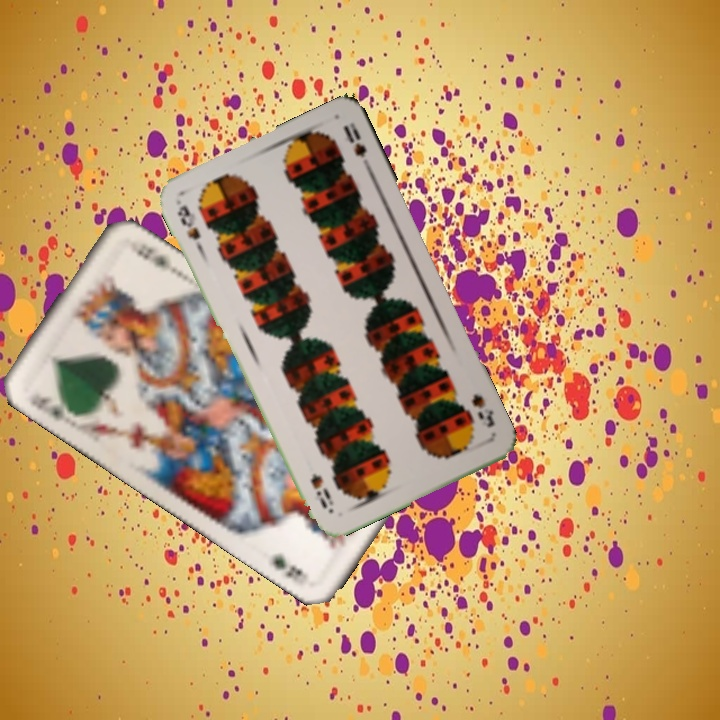GK: (28, 392, 61, 419)
S8: (173, 201, 206, 255), (468, 390, 497, 431)
